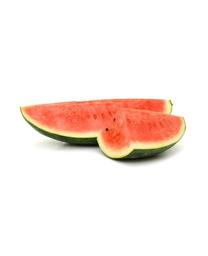watermelon: (19, 94, 189, 162)
